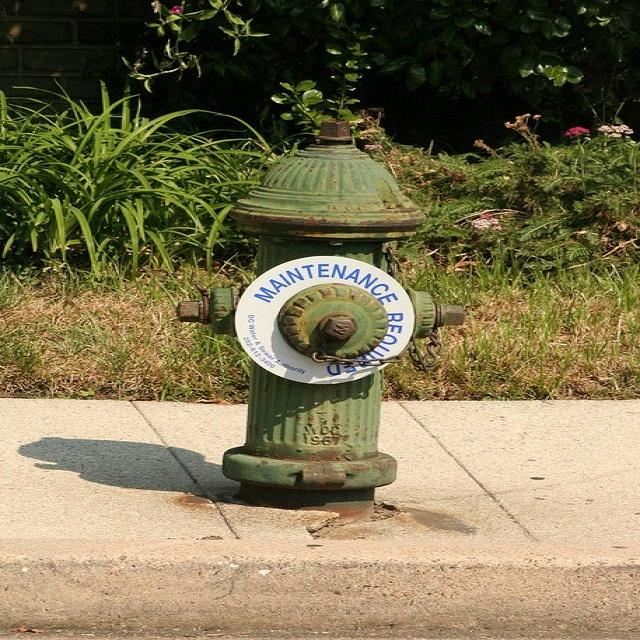fire_hydrant: (158, 87, 530, 597)
